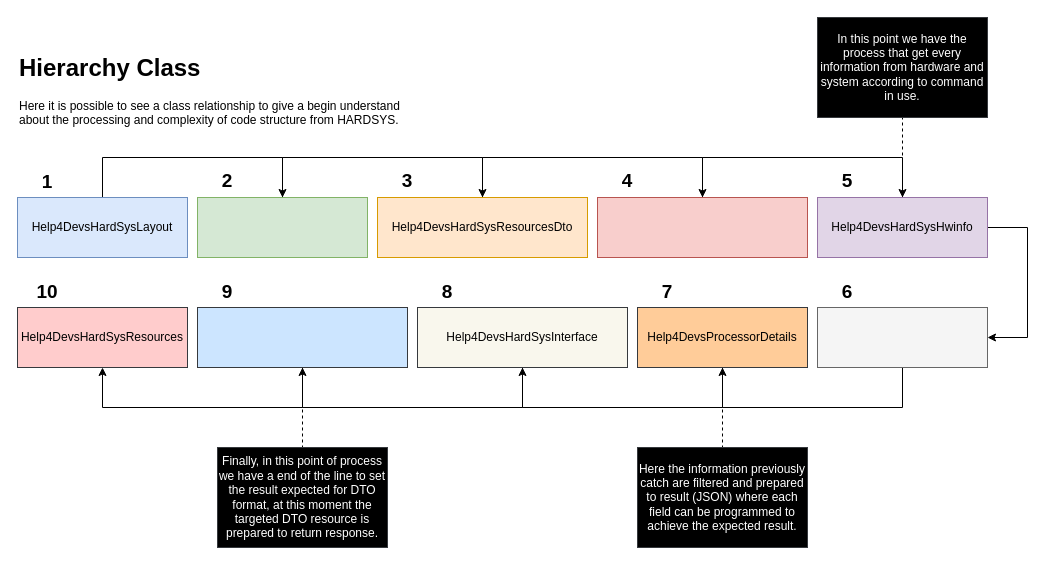
Image size: 1053x565. Some labels were removed from this diagram. The centre of each missing label's shape, as x and y in pixels:
Help4DevsAllGroupDetails: (902,337)
Help4DevsHardSysBuilder: (702,227)
Help4DevsHardSysHwinfoFactory: (302,337)
Help4DevsProcessorDto: (282,227)
